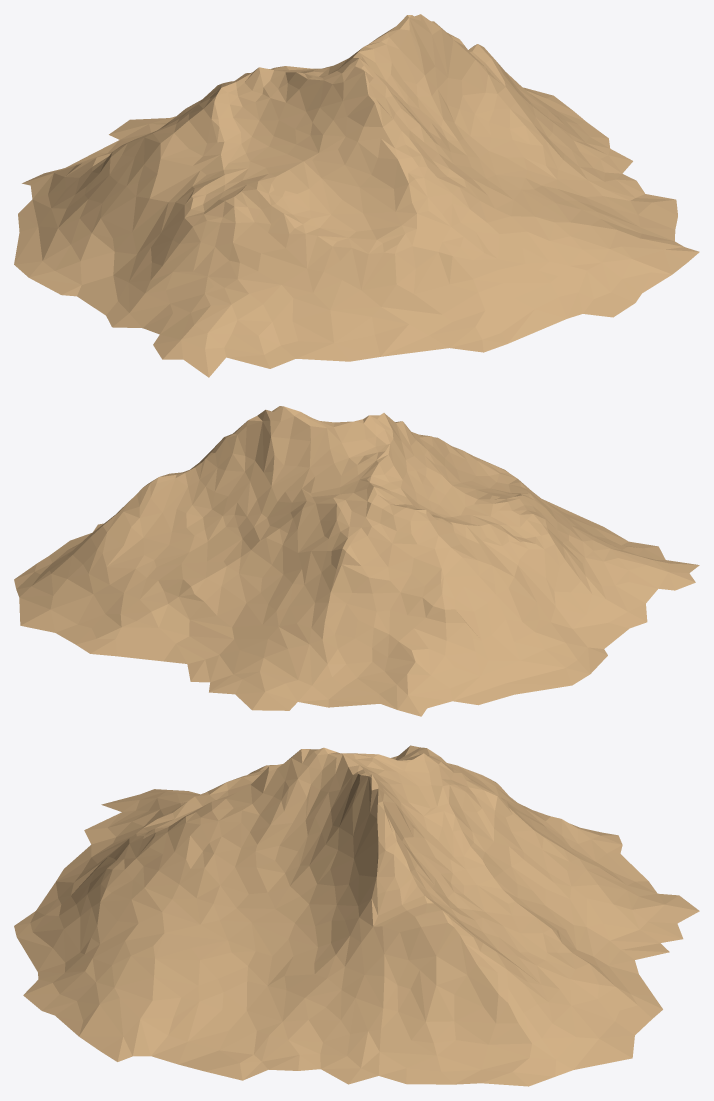
File: MT_Mountain_L_d_02_LOD.fbx
3 renders of one model, top to bottom at view 1: azimuth 30°, elevation 25°; view 2: azimuth 150°, elevation 25°; view 3: azimuth 270°, elevation 25°, orthographic. The views are drawn at different scales.
Visible parts, largest first — view 1: MT_Mountain_L_d_02_LOD0; view 2: MT_Mountain_L_d_02_LOD0; view 3: MT_Mountain_L_d_02_LOD0.
Boxes of the visible parts, left/top/right/bottom form: MT_Mountain_L_d_02_LOD0: left=14, top=14, right=699, bottom=377; MT_Mountain_L_d_02_LOD0: left=14, top=406, right=699, bottom=716; MT_Mountain_L_d_02_LOD0: left=14, top=745, right=699, bottom=1086.
Size of what is drawn, in the model's own units: 9506 by 3006 by 9291.
